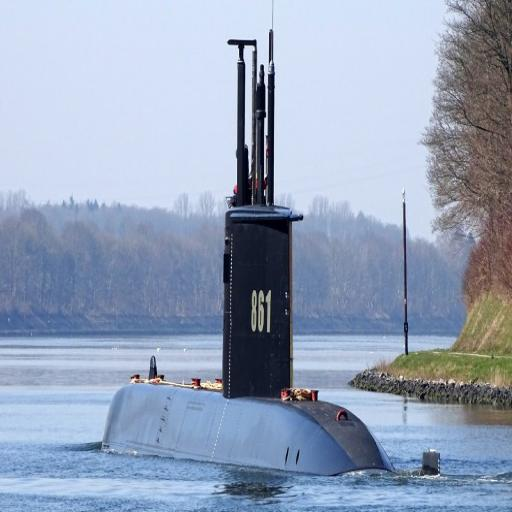submarine: (104, 2, 440, 478)
